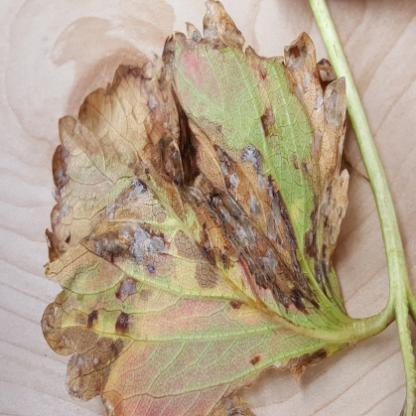Strawberry_Angular_LeafSpot: (40, 0, 360, 415)
